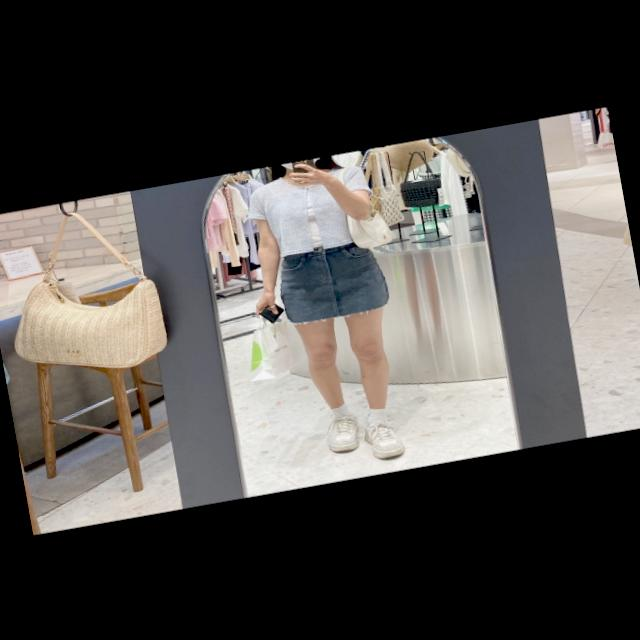cardigan: (238, 161, 386, 262)
skirt: (276, 240, 394, 326)
